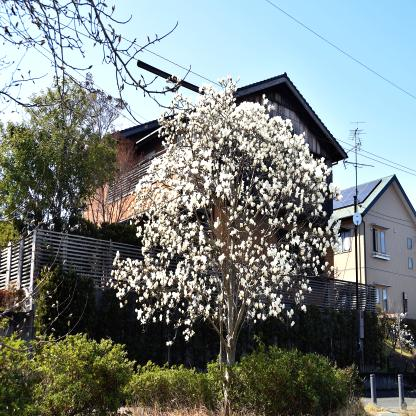Mokuren: (108, 74, 343, 348)
